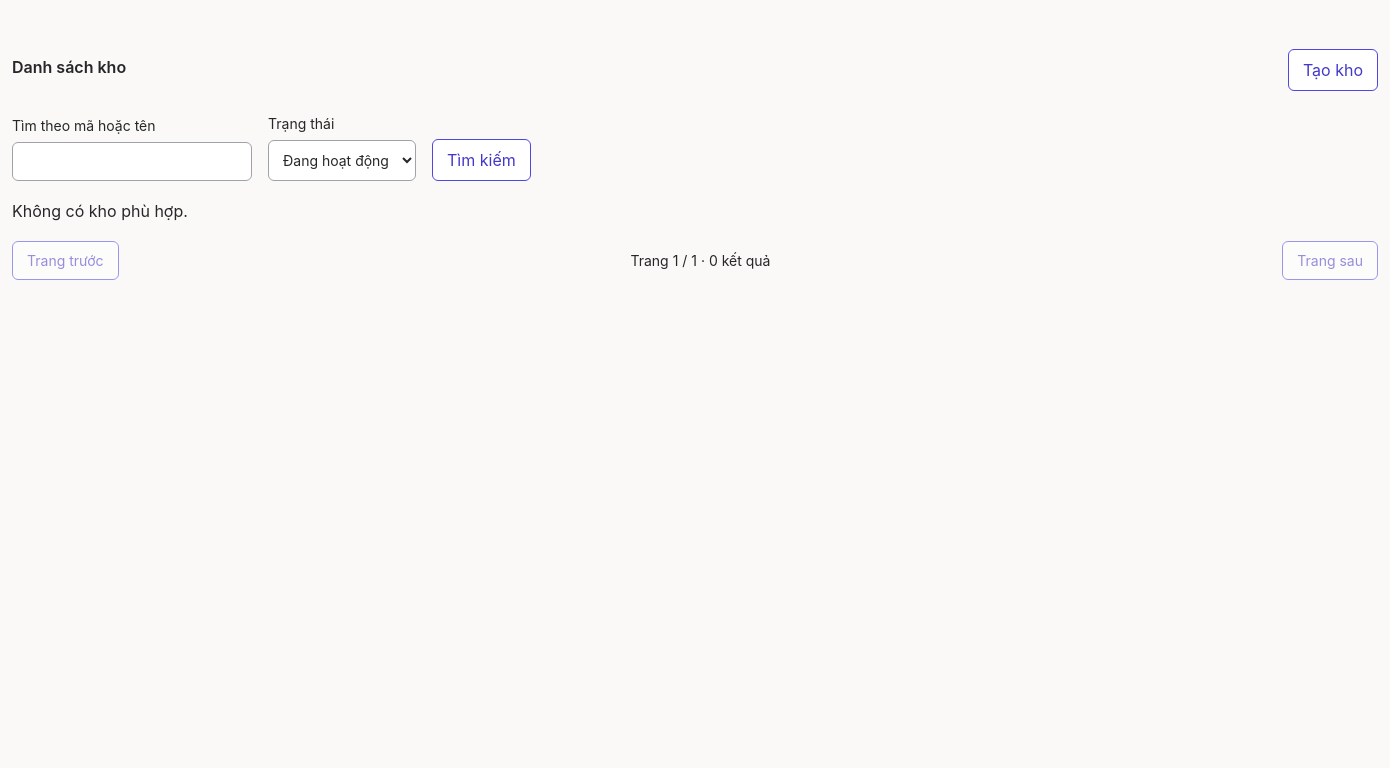
it: warehouses supports validation, create, duplicate-submit protection and refresh
Check: the text "Không có kho phù hợp." is shown, box [12,201,188,221]
Click the button "Tạo kho": (1333, 70) [1288,49,1378,91]
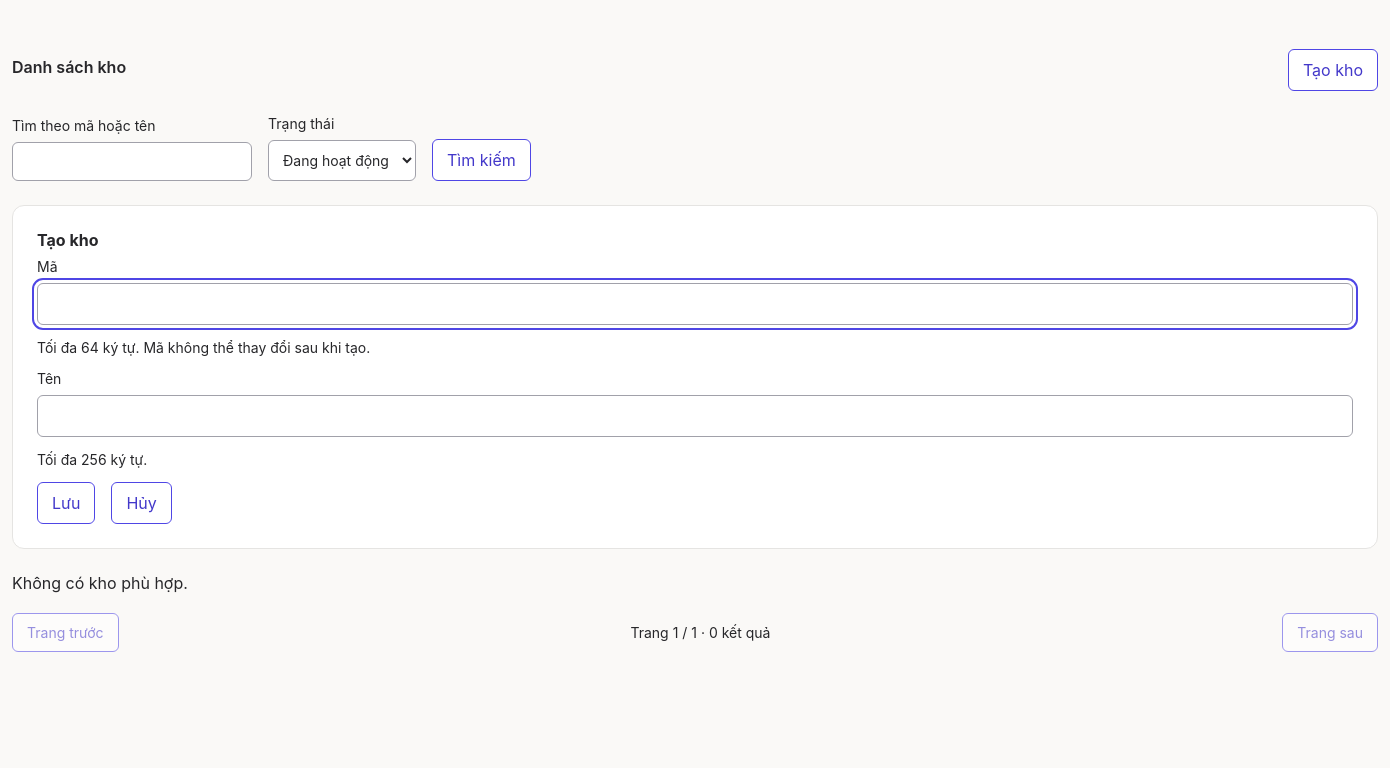
Click the button "Lưu": (66, 503) [37,482,95,524]
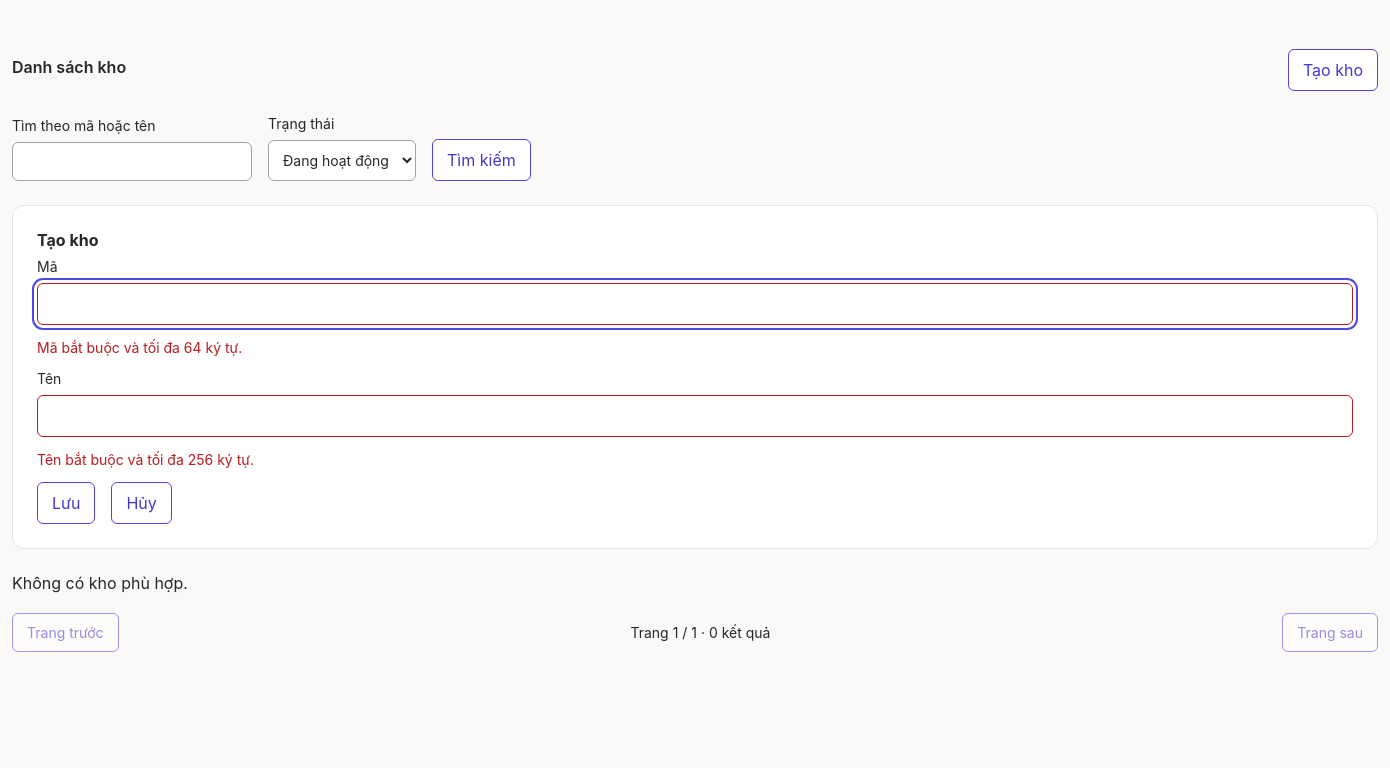
In the field labelled "Mã": (695, 304) [37,283,1353,325], type " A01 "
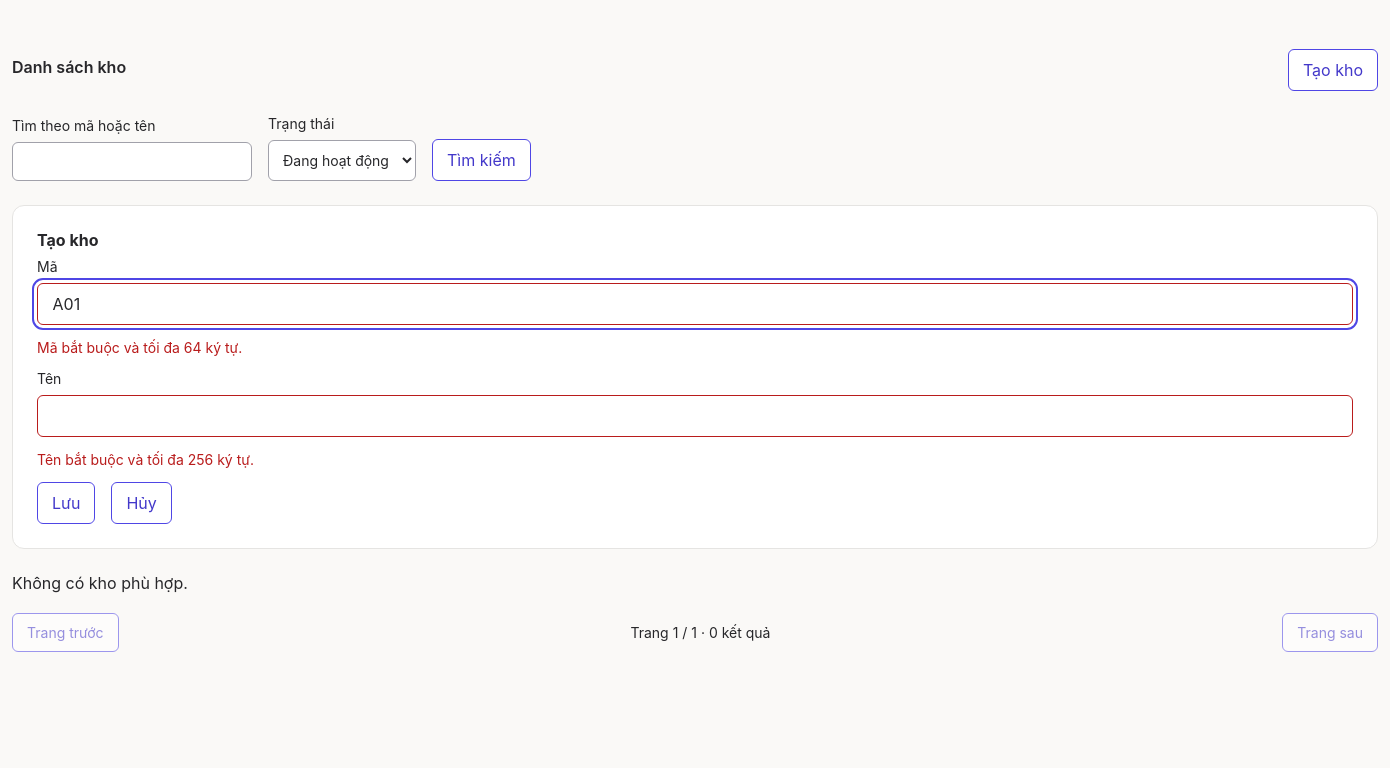
In the field labelled "Tên": (695, 416) [37,395,1353,437], type " Mặt hàng A "
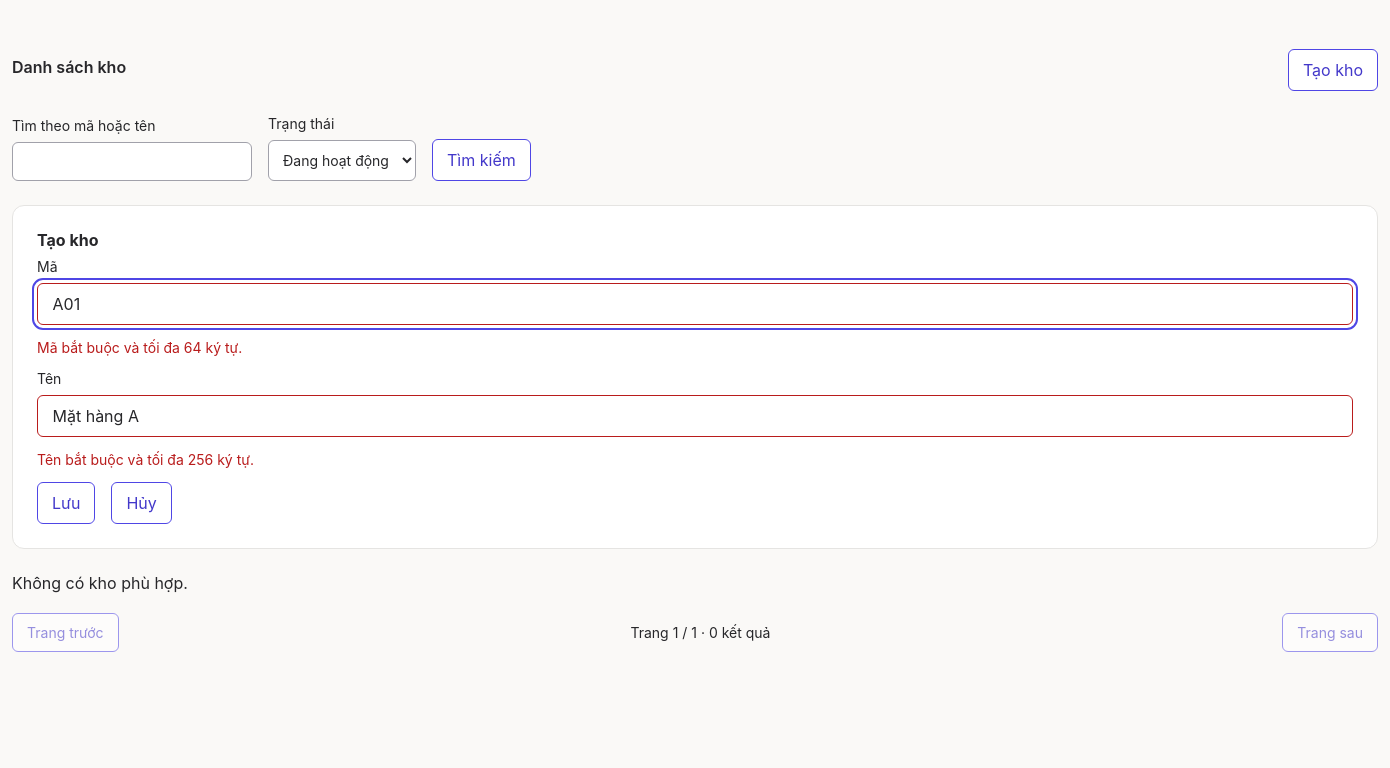
Click the button "Lưu": (66, 503) [37,482,95,524]
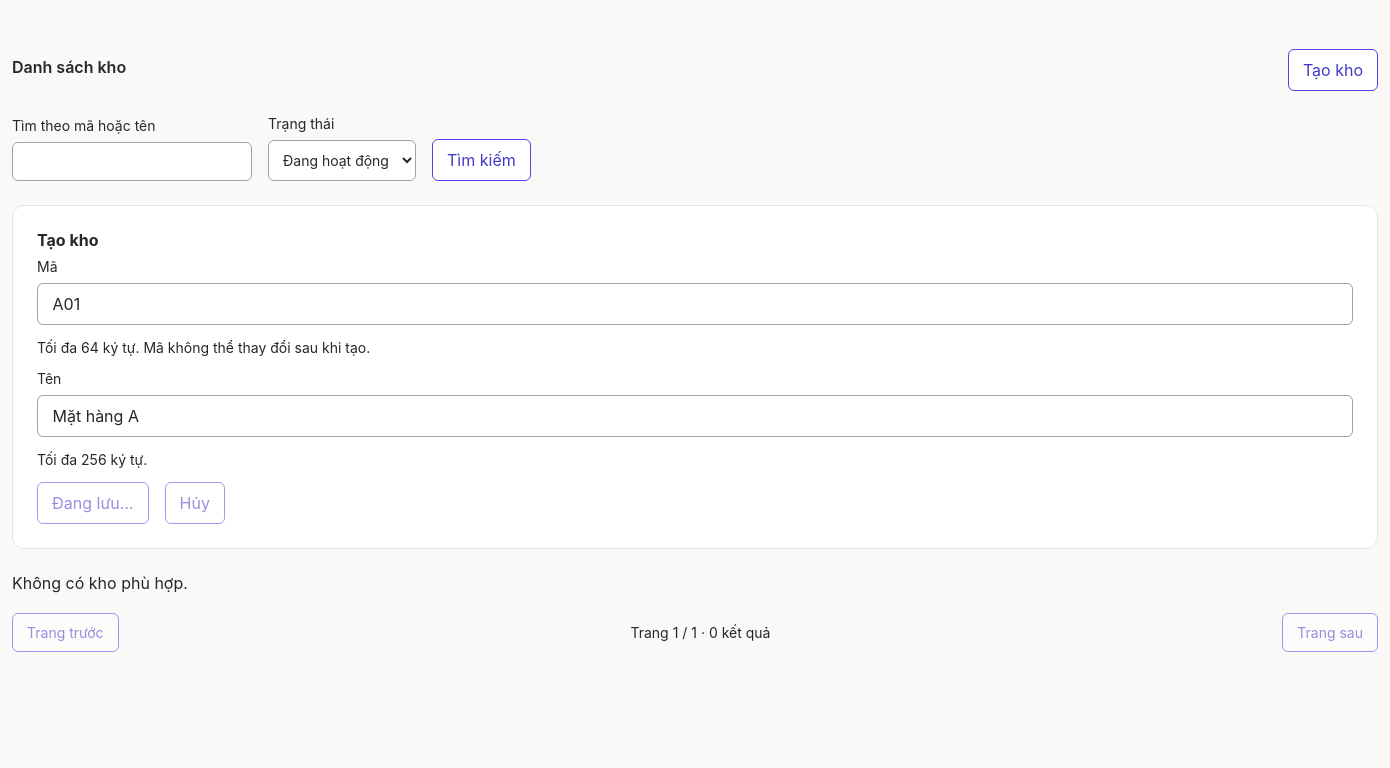
Check: the button "Đang lưu…" is disabled, box [37,482,149,524]
Submit the form "Tạo kho", box [12,205,1378,549]
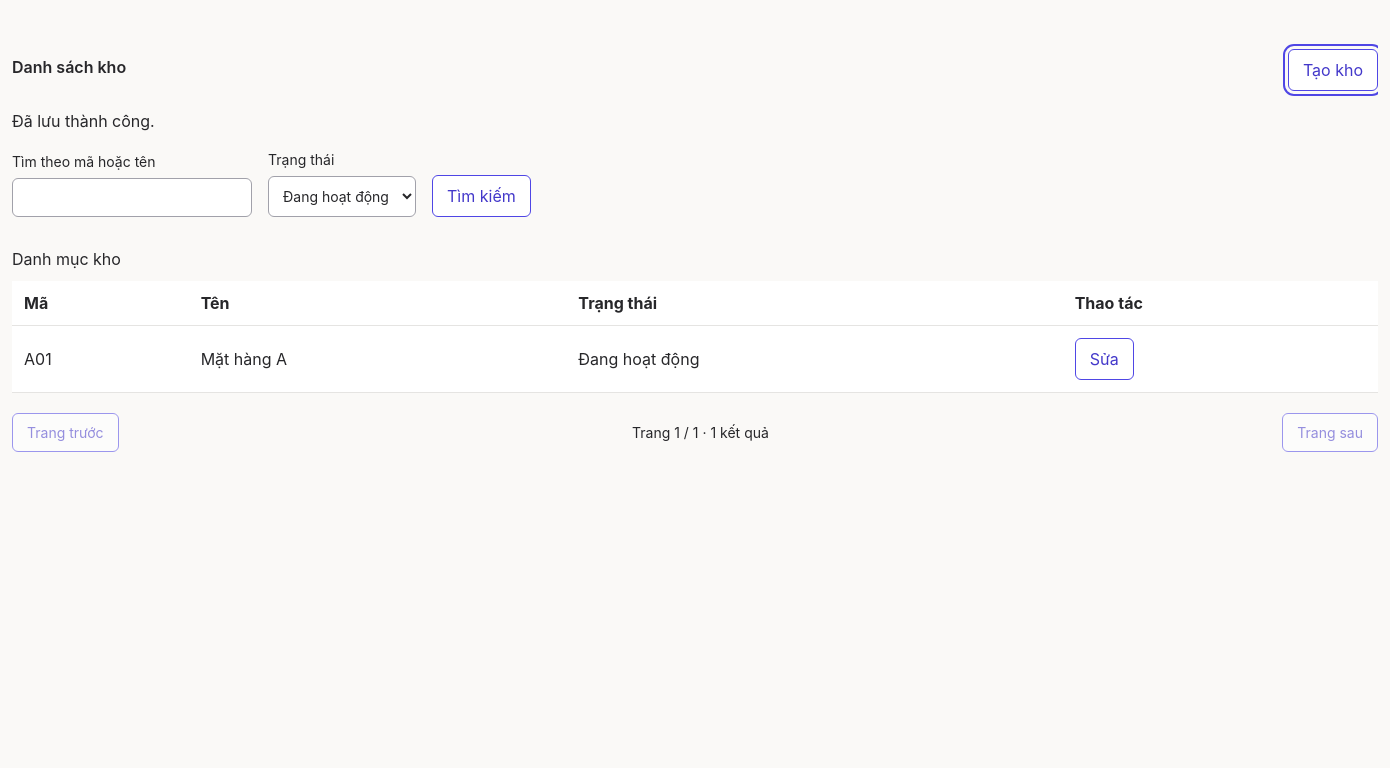
Check: the text "Đã lưu thành công." is shown, box [12,111,155,131]
Check: the text "Mặt hàng A" is shown, box [189,326,566,393]
